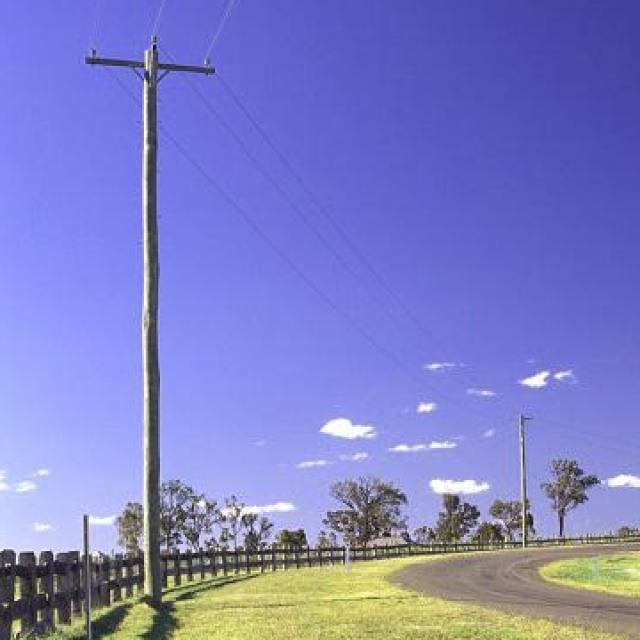non-critical vegetation: (74, 32, 222, 603), (502, 405, 542, 546)
